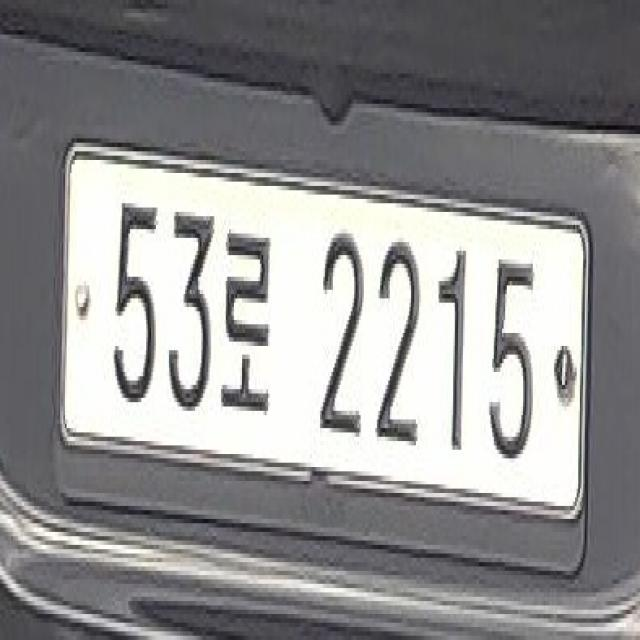1: (431, 234, 479, 476)
2: (378, 216, 429, 489), (317, 216, 365, 472)
3: (164, 195, 218, 432)
5: (112, 168, 164, 420), (487, 246, 538, 458)
license_plate: (54, 130, 591, 579)
lo: (216, 217, 271, 432)
